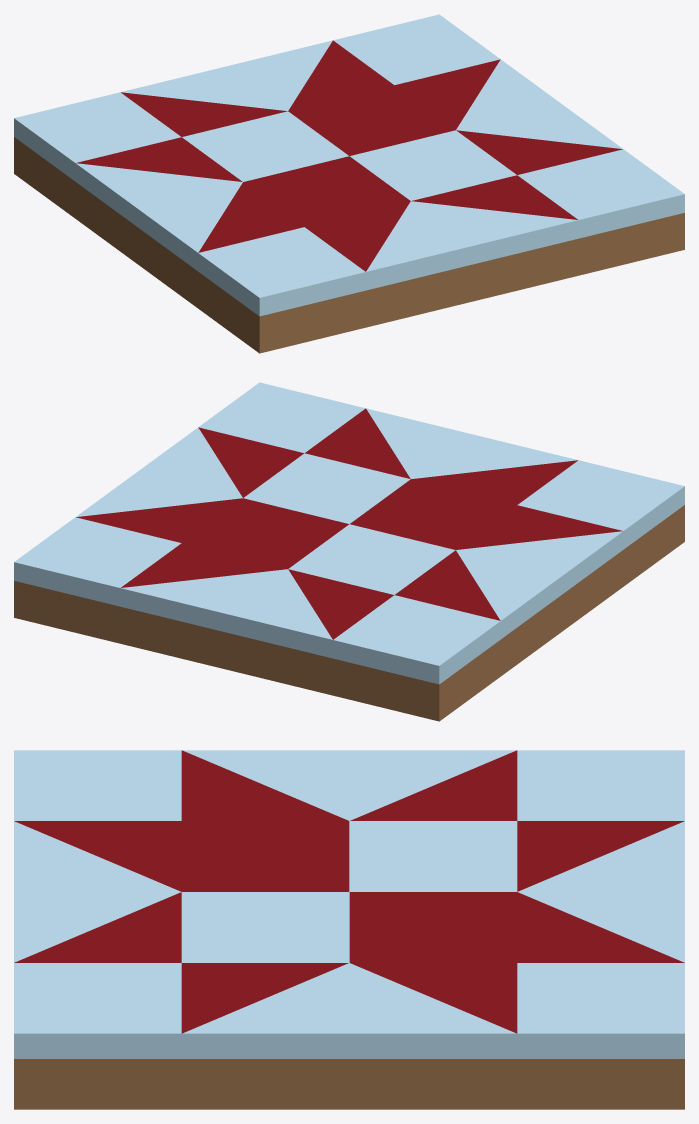
The model's file is quaternius-sushi-restaurant-floor-kitchen-2.glb.
3 renders of one model, top to bottom at view 1: azimuth 30°, elevation 25°; view 2: azimuth 150°, elevation 25°; view 3: azimuth 270°, elevation 25°, orthographic. The views are drawn at different scales.
Visible parts, largest first — view 1: Floor_Kitchen2; view 2: Floor_Kitchen2; view 3: Floor_Kitchen2.
Boxes of the visible parts, x1,y1,x2,y2 form: Floor_Kitchen2: (14,14,684,353); Floor_Kitchen2: (14,382,684,721); Floor_Kitchen2: (14,750,684,1109).
Bounding box in the file's own units: 4 × 0.5 × 4.
Materials: 1 (1 with a texture image).
